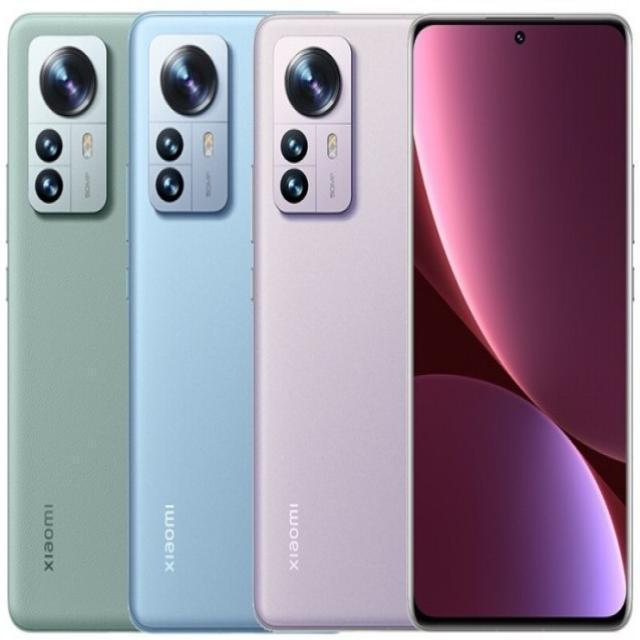phone: (404, 14, 634, 632), (254, 10, 411, 635), (2, 4, 131, 634), (130, 4, 256, 634)
